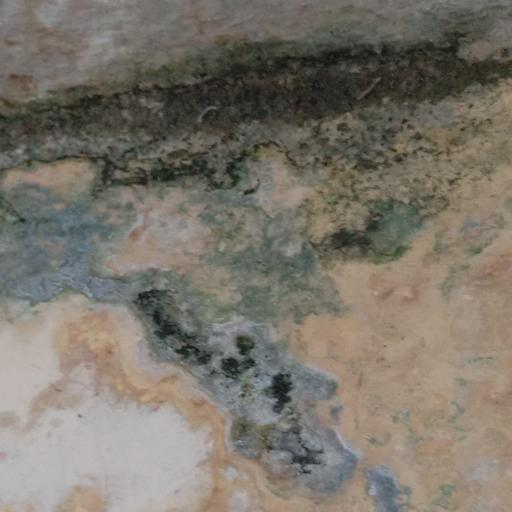algae: (8, 38, 512, 323)
